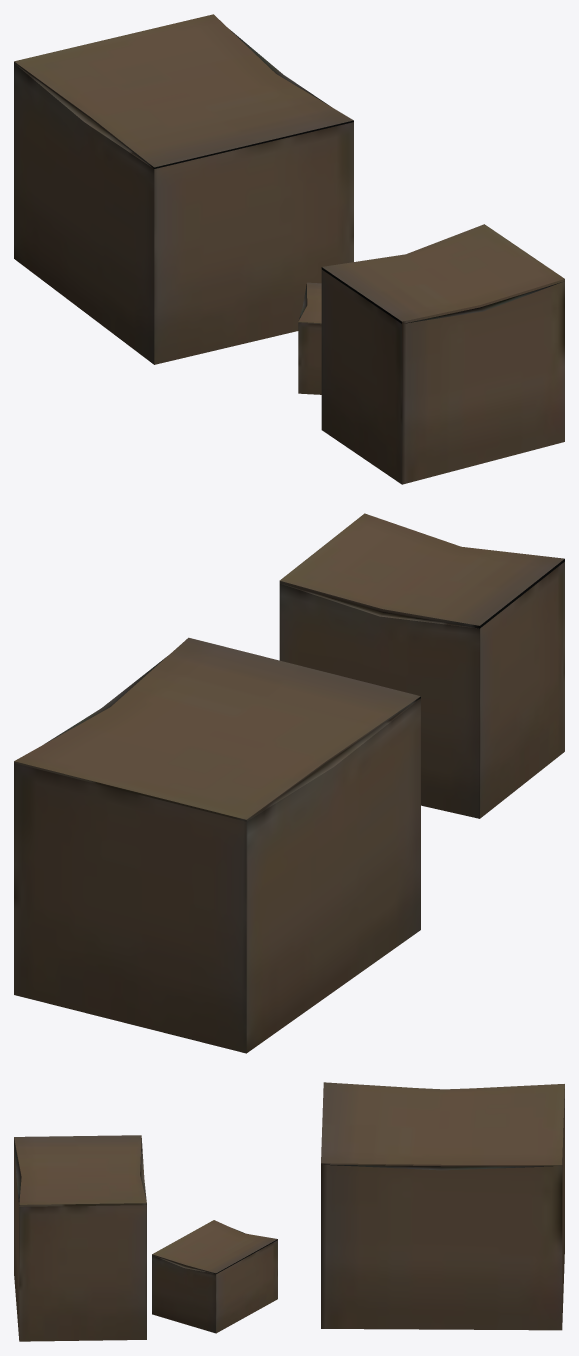
3 views of the same model, one above another, from view 1: azimuth 30°, elevation 25°; view 2: azimuth 150°, elevation 25°; view 3: azimuth 270°, elevation 25° (orthographic). The views are drawn at different scales.
Parts seen in each view (by area): view 1: body0_model0_lod0_mesh0; view 2: body0_model0_lod0_mesh0; view 3: body0_model0_lod0_mesh0.
Part boxes in pixels (bbox=[...]): body0_model0_lod0_mesh0: bbox=[14, 14, 564, 484]; body0_model0_lod0_mesh0: bbox=[14, 513, 564, 1053]; body0_model0_lod0_mesh0: bbox=[14, 1082, 564, 1341].
Bounding box in the file's own units: 25.7 × 21.15 × 63.82.
Materials: 1 (1 with a texture image).
